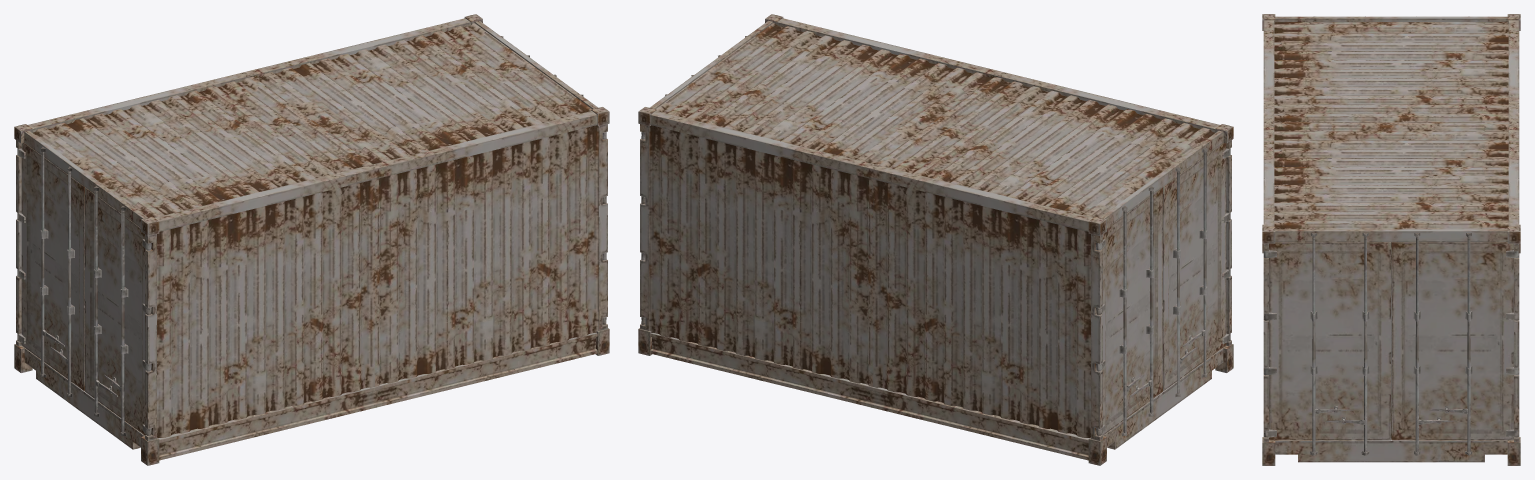
The model's file is shipping_container_600_a_white.glb.
3 views of the same model, side by side, from view 1: azimuth 30°, elevation 25°; view 2: azimuth 150°, elevation 25°; view 3: azimuth 270°, elevation 25° (orthographic). The views are drawn at different scales.
Parts seen in each view (by area): view 1: shipping_container_600_a_white; view 2: shipping_container_600_a_white; view 3: shipping_container_600_a_white.
Part boxes in pixels (x1=…): shipping_container_600_a_white: x1=14, y1=14, x2=609, y2=465; shipping_container_600_a_white: x1=638, y1=14, x2=1233, y2=465; shipping_container_600_a_white: x1=1262, y1=14, x2=1520, y2=465.
Bounding box in the file's own units: 6.01 × 3 × 3.
Materials: 1 (1 with a texture image).
